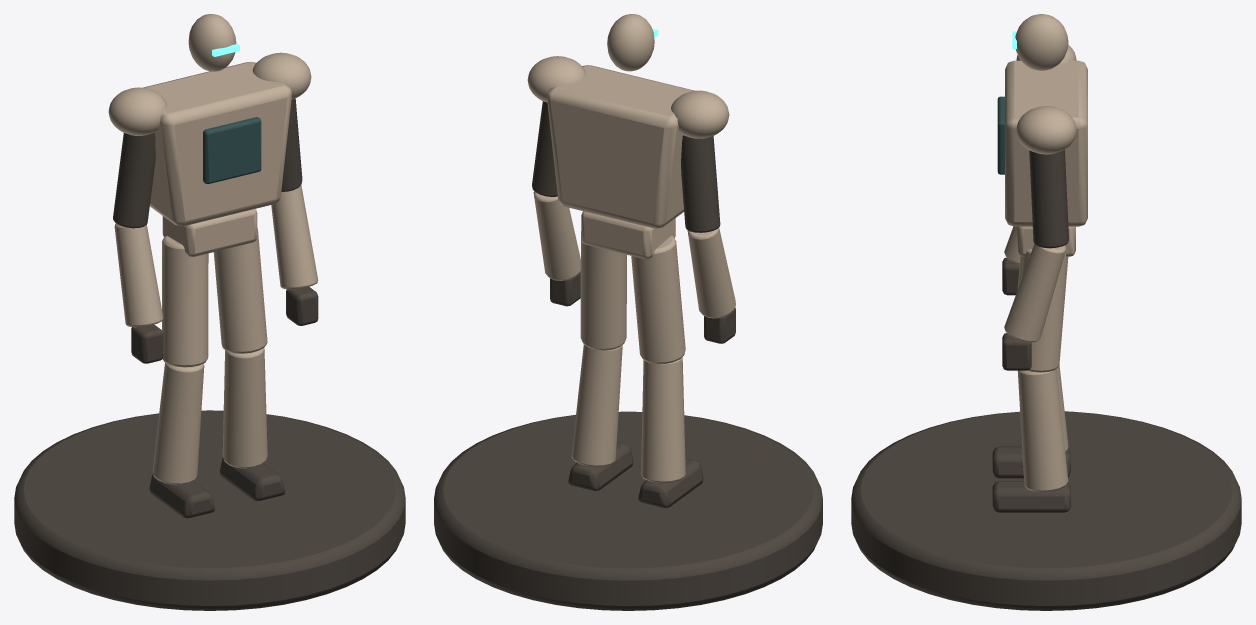
The model's file is reliquary_frame_scout.glb.
3 views of the same model, side by side, from view 1: azimuth 30°, elevation 25°; view 2: azimuth 150°, elevation 25°; view 3: azimuth 270°, elevation 25° (orthographic).
Visible parts, largest first — view 1: standin_base.008, t.008, standin_thigh_R.008, standin_shin_R.008, standin_thigh_L.008, standin_shin_L.008, standin_forearm_R.008, standin_forearm_L.008, tp.008, standin_arm_R.008, standin_pelvis.008, standin_pauldron_R.008 (+7 smaller); view 2: standin_base.008, t.008, standin_thigh_R.008, standin_shin_R.008, standin_shin_L.008, standin_thigh_L.008, standin_arm_R.008, standin_forearm_R.008, standin_forearm_L.008, standin_pelvis.008, standin_pauldron_R.008, h.008 (+6 smaller); view 3: standin_base.008, t.008, standin_shin_L.008, standin_forearm_L.008, standin_arm_L.008, h.008, standin_pauldron_L.008, standin_thigh_L.008, standin_foot_L.008, standin_foot_R.008, standin_hand_L.008, standin_pelvis.008 (+2 smaller).
Part boxes in pixels (bbox=[...]): standin_base.008: bbox=[14, 410, 405, 610]; t.008: bbox=[143, 61, 291, 225]; standin_thigh_R.008: bbox=[162, 235, 208, 367]; standin_shin_R.008: bbox=[152, 363, 204, 484]; standin_thigh_L.008: bbox=[213, 227, 267, 353]; standin_shin_L.008: bbox=[222, 348, 267, 468]; standin_forearm_R.008: bbox=[114, 223, 163, 327]; standin_forearm_L.008: bbox=[271, 185, 318, 289]; tp.008: bbox=[203, 117, 261, 183]; standin_arm_R.008: bbox=[113, 132, 155, 228]; standin_pelvis.008: bbox=[162, 209, 257, 256]; standin_pauldron_R.008: bbox=[108, 87, 167, 135]; standin_base.008: bbox=[434, 411, 822, 610]; t.008: bbox=[547, 65, 694, 228]; standin_thigh_R.008: bbox=[631, 235, 685, 364]; standin_shin_R.008: bbox=[641, 357, 685, 483]; standin_shin_L.008: bbox=[571, 344, 622, 466]; standin_thigh_L.008: bbox=[580, 231, 626, 350]; standin_arm_R.008: bbox=[681, 135, 720, 232]; standin_forearm_R.008: bbox=[687, 227, 735, 318]; standin_forearm_L.008: bbox=[533, 191, 580, 280]; standin_pelvis.008: bbox=[581, 211, 675, 258]; standin_pauldron_R.008: bbox=[671, 90, 729, 138]; h.008: bbox=[607, 14, 654, 71]; standin_base.008: bbox=[851, 411, 1241, 610]; t.008: bbox=[1005, 60, 1087, 226]; standin_shin_L.008: bbox=[1017, 369, 1068, 492]; standin_forearm_L.008: bbox=[1004, 244, 1065, 342]; standin_arm_L.008: bbox=[1029, 149, 1068, 248]; h.008: bbox=[1015, 14, 1068, 70]; standin_pauldron_L.008: bbox=[1016, 106, 1076, 154]; standin_thigh_L.008: bbox=[1020, 249, 1068, 372]; standin_foot_L.008: bbox=[992, 481, 1070, 512]; standin_foot_R.008: bbox=[992, 446, 1070, 478]; standin_hand_L.008: bbox=[1002, 333, 1031, 370]; standin_pelvis.008: bbox=[1017, 226, 1075, 256].
Bounding box in the file's own units: 25 × 36.51 × 25.
